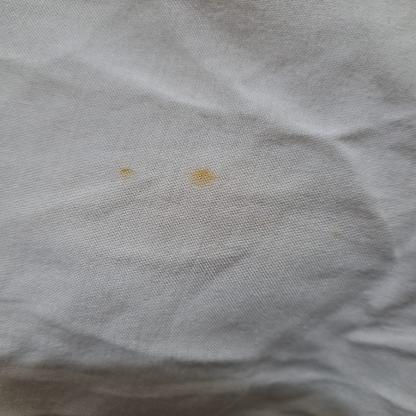spot: (108, 162, 229, 192), (129, 166, 219, 184), (324, 228, 344, 242)
